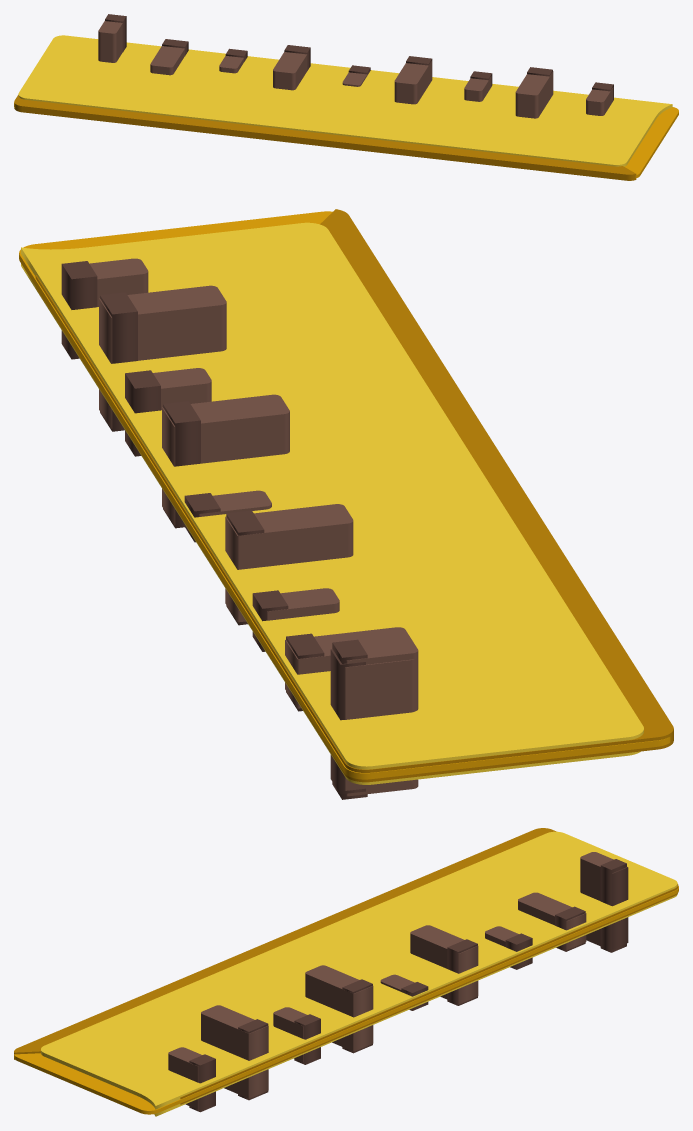
Rendered from emoji_u1f4cf.glb.
The picture shows the model from 3 angles, top to bottom: view 1: azimuth 30°, elevation 25°; view 2: azimuth 150°, elevation 25°; view 3: azimuth 270°, elevation 25°; orthographic projection. The views are drawn at different scales.
Visible parts, largest first — view 1: emoji_u1f4cf; view 2: emoji_u1f4cf; view 3: emoji_u1f4cf.
Part boxes in pixels (<box>): emoji_u1f4cf: <box>14,14,678,180</box>; emoji_u1f4cf: <box>19,209,673,799</box>; emoji_u1f4cf: <box>14,828,678,1116</box>.
Bounding box in the file's own units: 0.0334 × 0.0046 × 0.0334.
